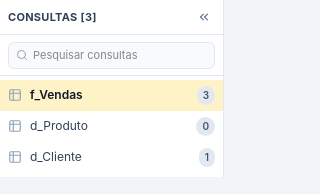
<ConsultasPane /> › filters the list via the search box
Type "produto" into the field with test id "consultas-search" at (112, 55), box [8, 42, 215, 68]
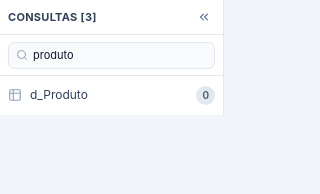
Expected: the button with test id "consulta-item-t2" is shown, [8, 86, 215, 104]
Expected: the button with test id "consulta-item-t1" is gone
